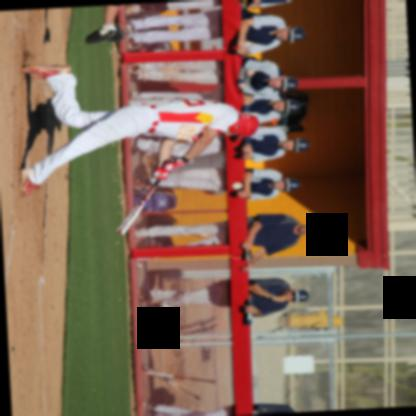backpack: (133, 188, 175, 212)
